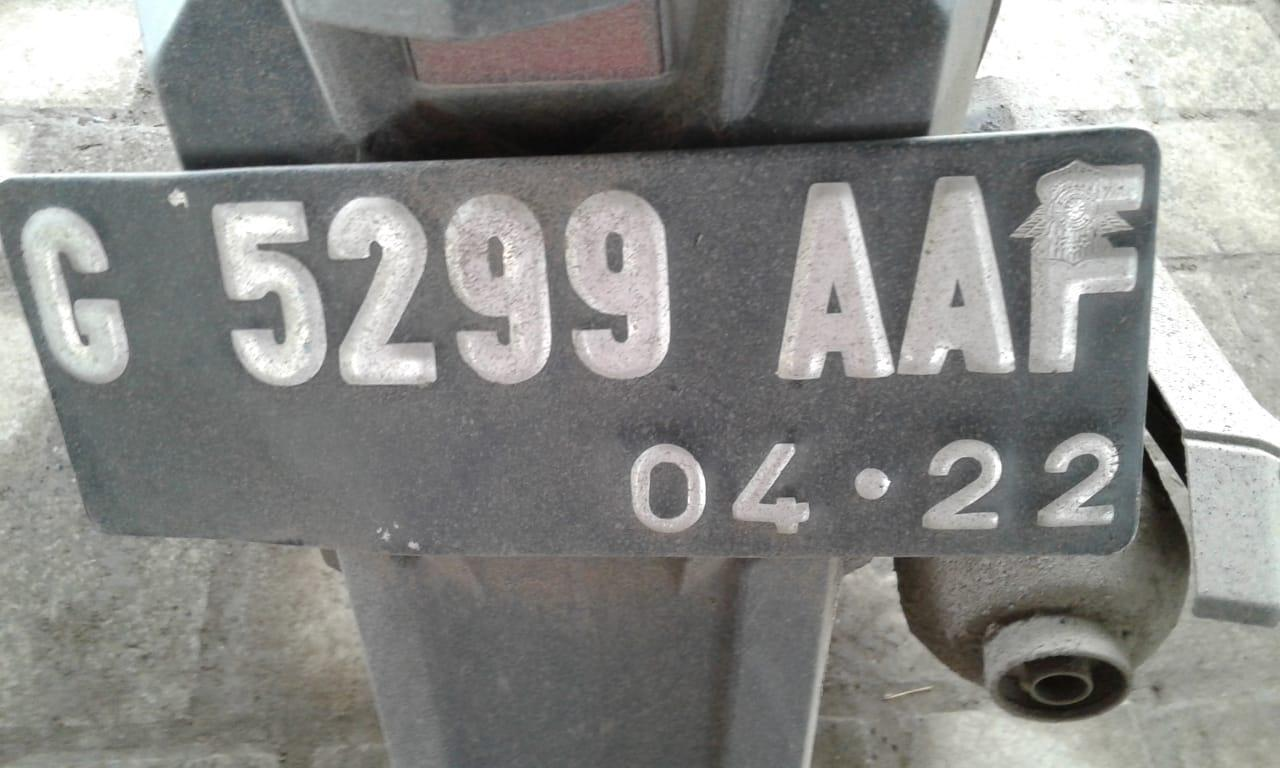clone-license-plate: (5, 130, 1157, 558)
